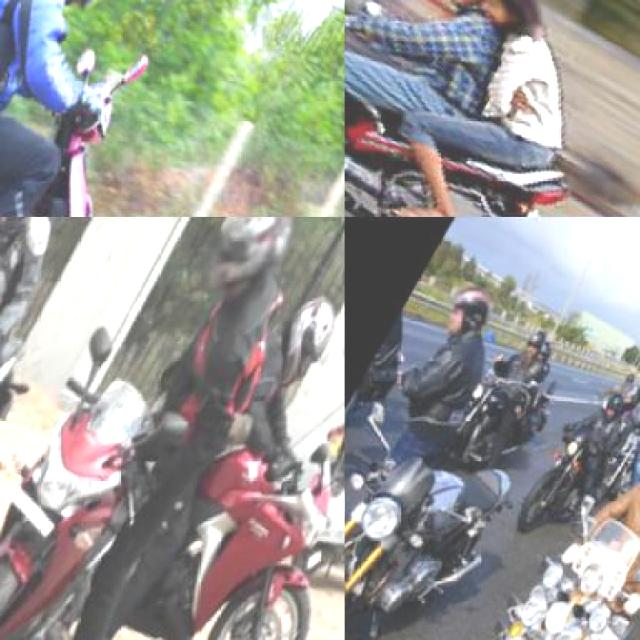With Helmet: (188, 217, 315, 315), (257, 274, 343, 400), (430, 279, 499, 352), (511, 316, 557, 367), (592, 384, 632, 428), (612, 376, 638, 422)
Without Helmet: (474, 0, 564, 42)
